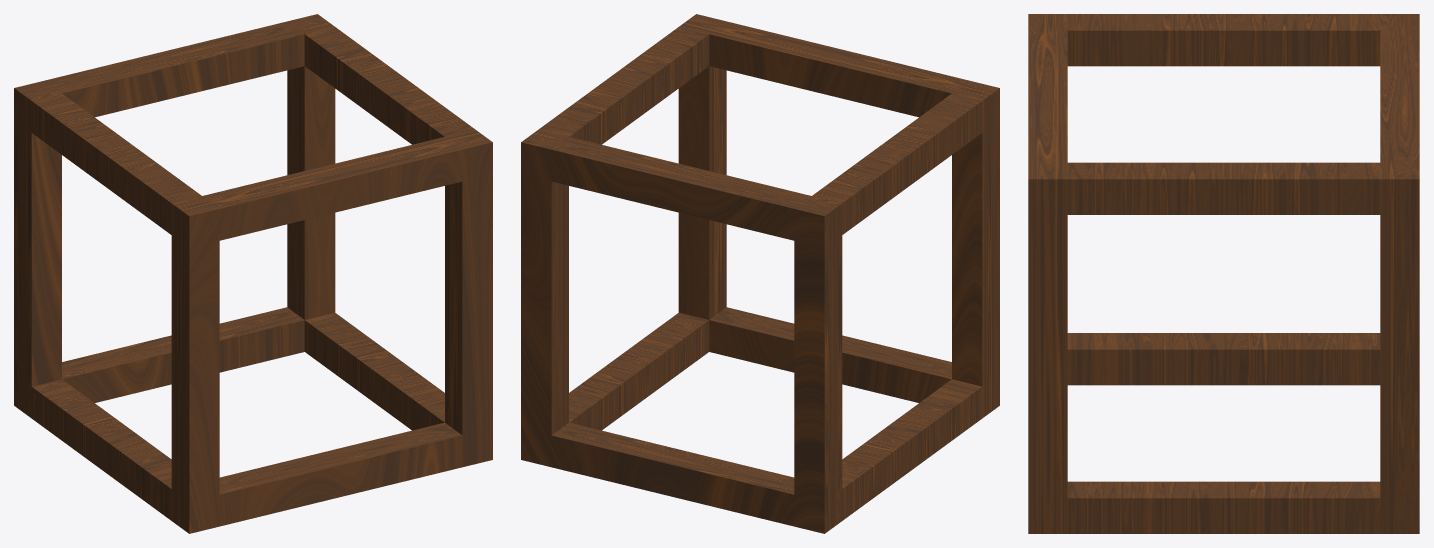
The model's file is cuby.glb.
3 views of the same model, side by side, from view 1: azimuth 30°, elevation 25°; view 2: azimuth 150°, elevation 25°; view 3: azimuth 270°, elevation 25° (orthographic). The views are drawn at different scales.
Parts seen in each view (by area): view 1: Cuby; view 2: Cuby; view 3: Cuby.
Boxes of the visible parts, <box> form: Cuby: <box>14,14,492,533</box>; Cuby: <box>521,14,999,533</box>; Cuby: <box>1028,14,1419,533</box>.
Bounding box in the file's own units: 2 × 2 × 2.
Materials: 1 (1 with a texture image).
